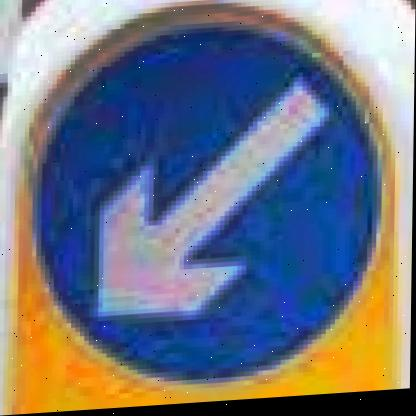Keep left: (13, 0, 400, 398)
